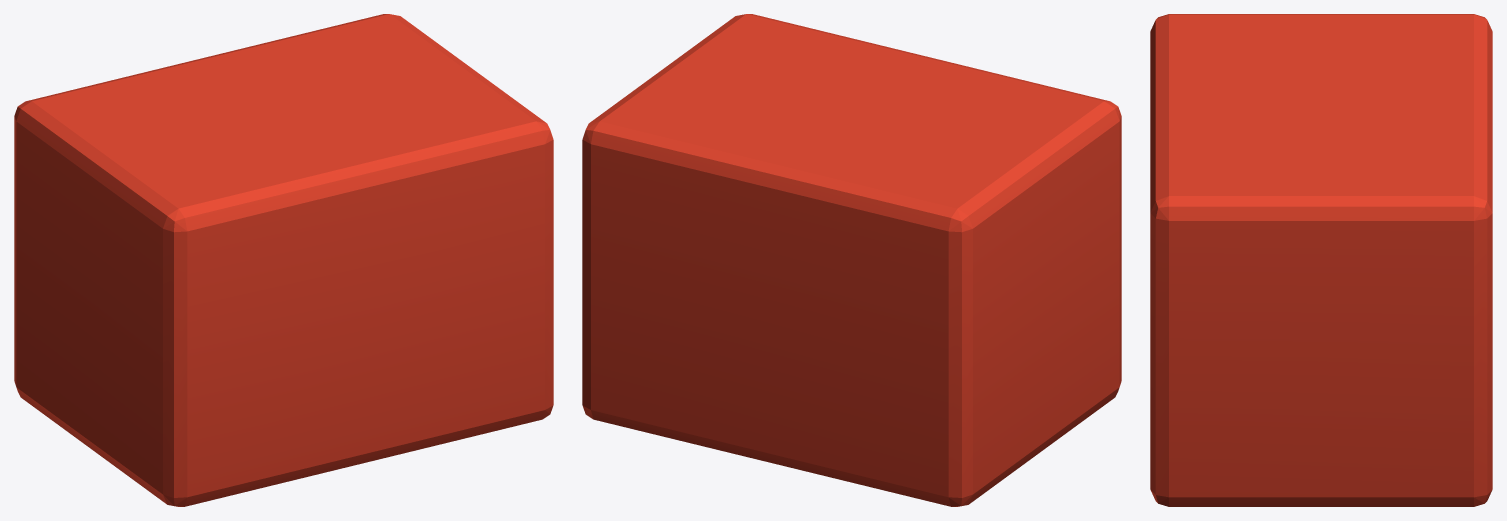
Rendered from tee_marker_block_red.glb.
3 renders of one model, left to right at view 1: azimuth 30°, elevation 25°; view 2: azimuth 150°, elevation 25°; view 3: azimuth 270°, elevation 25°, orthographic. The views are drawn at different scales.
Visible parts, largest first — view 1: Body; view 2: Body; view 3: Body.
Part boxes in pixels (left/top/right/bottom): Body: left=14, top=14, right=553, bottom=506; Body: left=582, top=14, right=1121, bottom=506; Body: left=1150, top=14, right=1492, bottom=506.
Size of the model in its own units: 0.3 by 0.22 by 0.22.
1 material, 1 textured.
